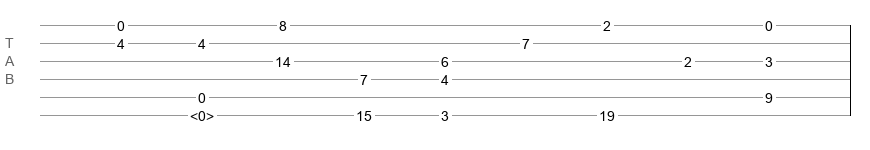0: (117, 18, 125, 28), (198, 90, 206, 100), (765, 18, 773, 28)
14: (275, 54, 291, 64)
15: (356, 108, 372, 118)
19: (599, 108, 615, 118)
2: (603, 18, 611, 28), (684, 54, 692, 64)
3: (441, 108, 449, 118), (765, 54, 773, 64)
4: (117, 36, 125, 46), (198, 36, 206, 46), (441, 72, 449, 82)
6: (441, 54, 449, 64)
7: (360, 72, 368, 82), (522, 36, 530, 46)
8: (279, 18, 287, 28)
9: (765, 90, 773, 100)
harmonic: (190, 108, 214, 118)
